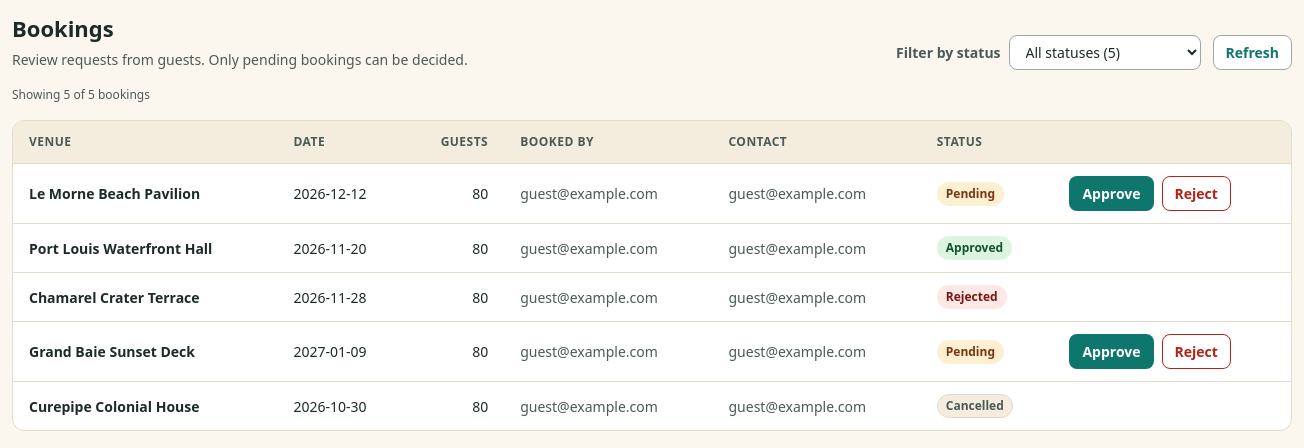
BookingsPanel: status filter › says so when no booking has the chosen status
This screenshot has width=1304, height=448.
Select "Paid (0)" in the dropdown labelled "Filter by status" at (1104, 52), box top-left (1008, 35), bottom-right (1200, 70)
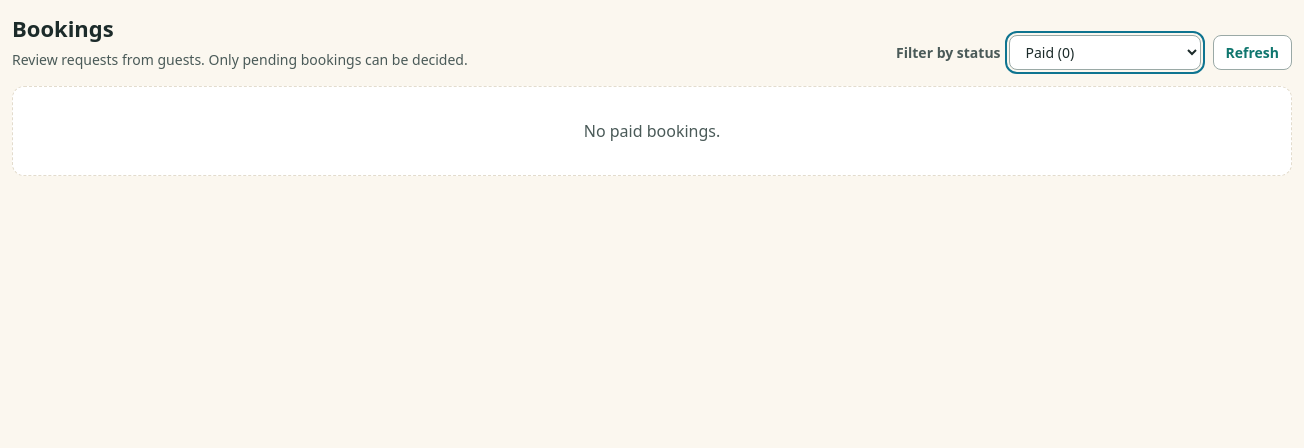
Expected: the table is gone
Expected: the text "No paid bookings." is shown, top-left (12, 86), bottom-right (1292, 176)
